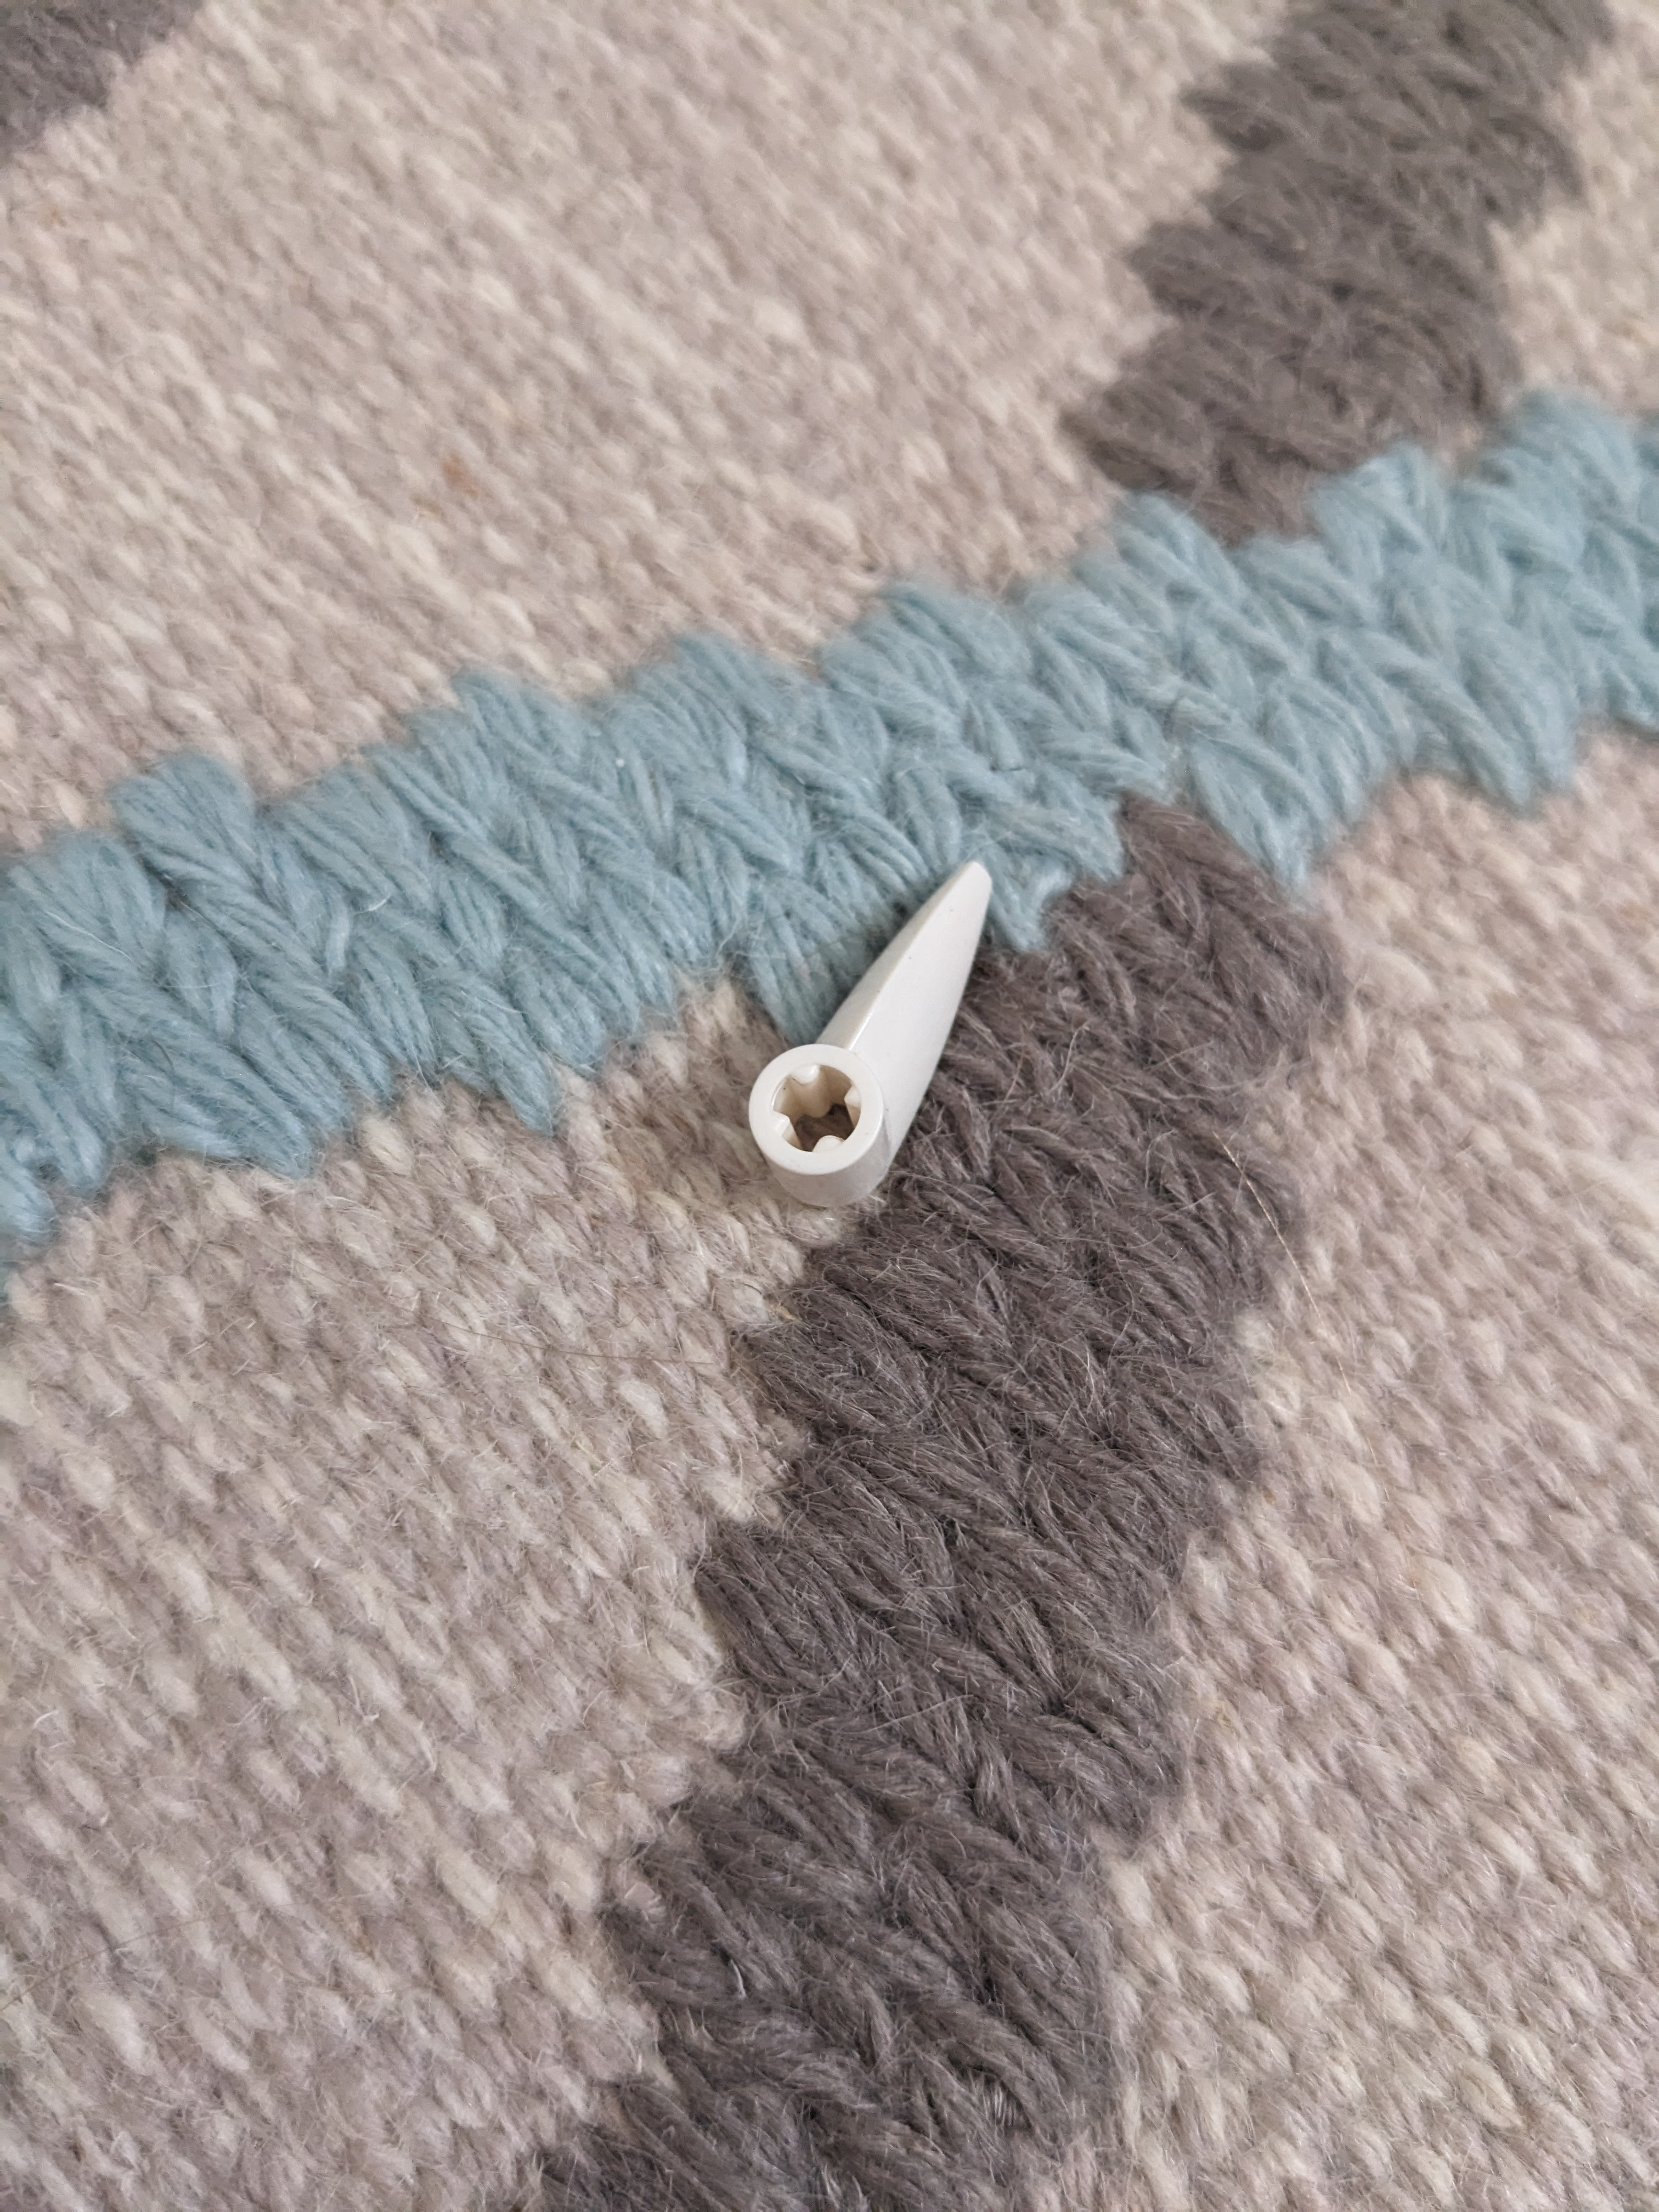Kappe: (730, 853, 1007, 1212)
